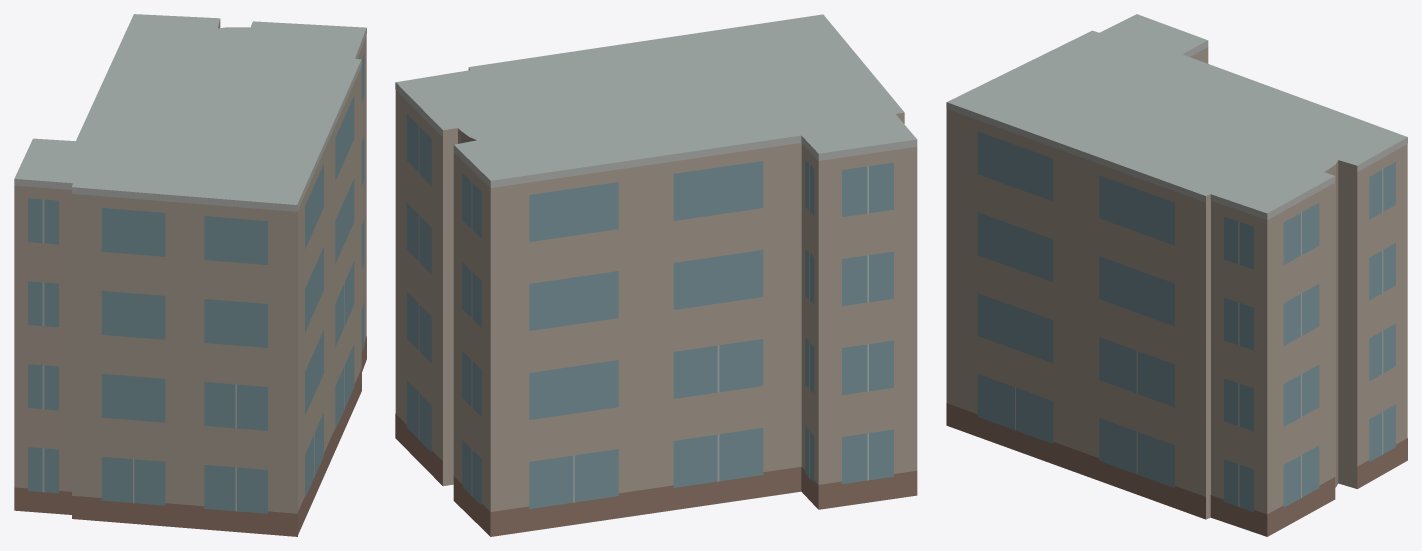
Rendered from survey-upis-32991566.glb.
3 renders of one model, left to right at view 1: azimuth 30°, elevation 25°; view 2: azimuth 150°, elevation 25°; view 3: azimuth 270°, elevation 25°, orthographic. The views are drawn at different scales.
Parts seen in each view (by area): view 1: survey-upis-32991566.tmp; view 2: survey-upis-32991566.tmp; view 3: survey-upis-32991566.tmp.
Part boxes in pixels (x1,y1,x2,y2): survey-upis-32991566.tmp: (14,14,366,536); survey-upis-32991566.tmp: (395,14,917,536); survey-upis-32991566.tmp: (946,14,1407,536).
Bounding box in the file's own units: 15.88 × 12 × 15.53.
